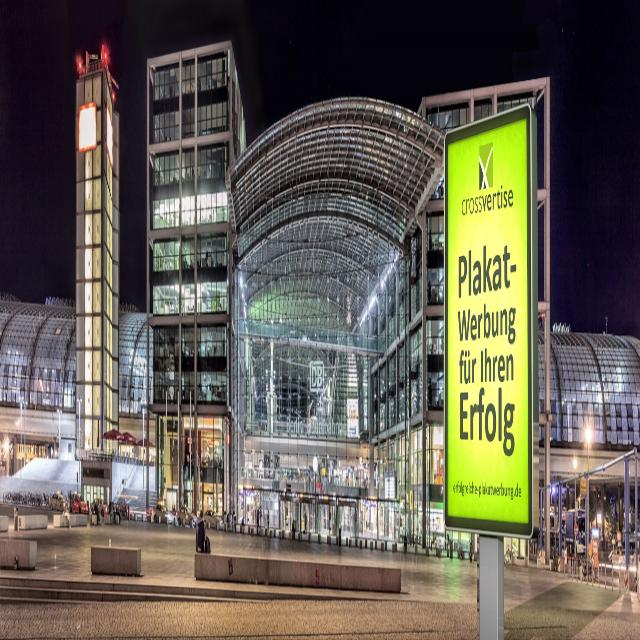Werbetafel frei: (439, 111, 540, 536)
